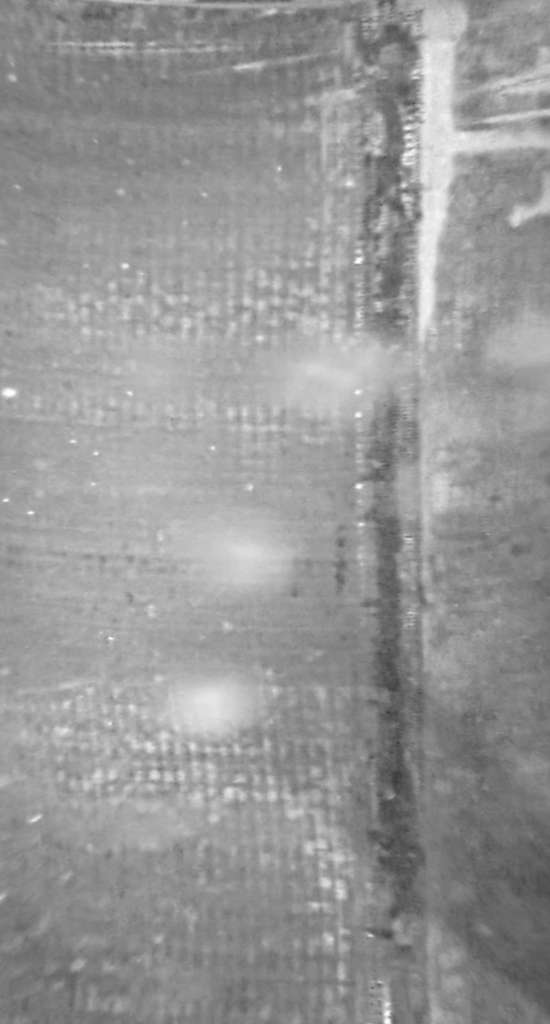splice: (347, 1, 446, 1024)
